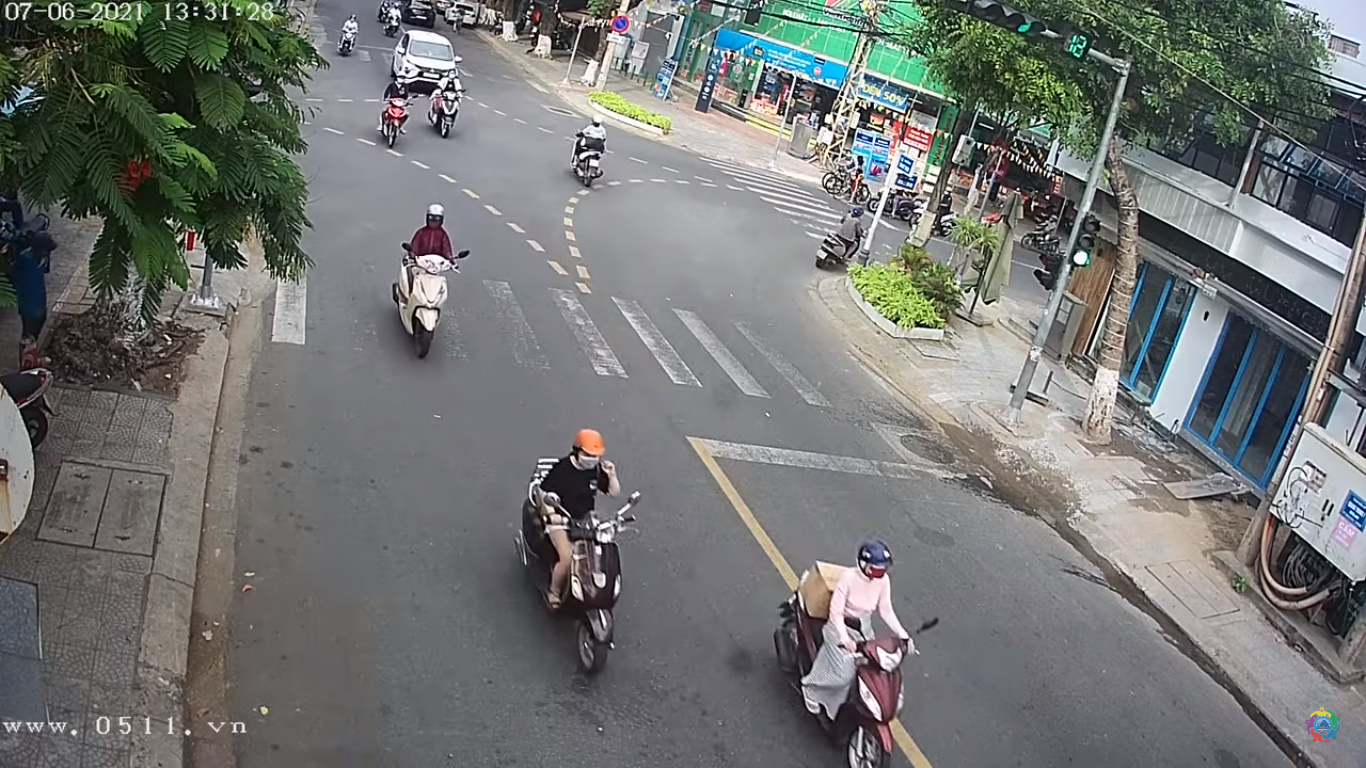motorbike: (777, 519, 926, 768), (518, 430, 647, 673), (388, 204, 471, 357)
